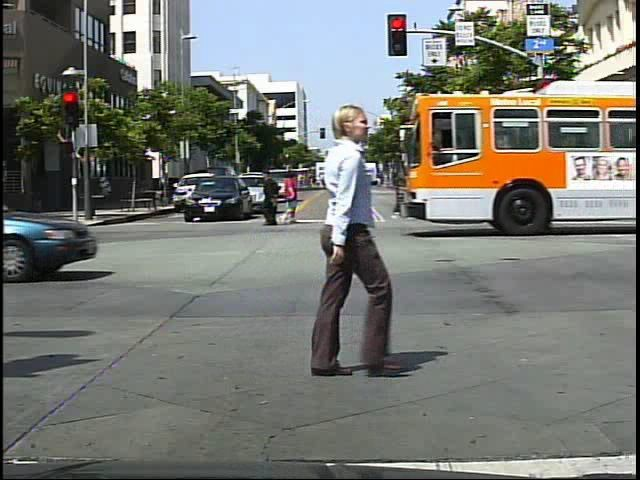person: (264, 88, 393, 387), (343, 163, 375, 228), (280, 168, 304, 226), (261, 167, 282, 229), (551, 160, 573, 211)
